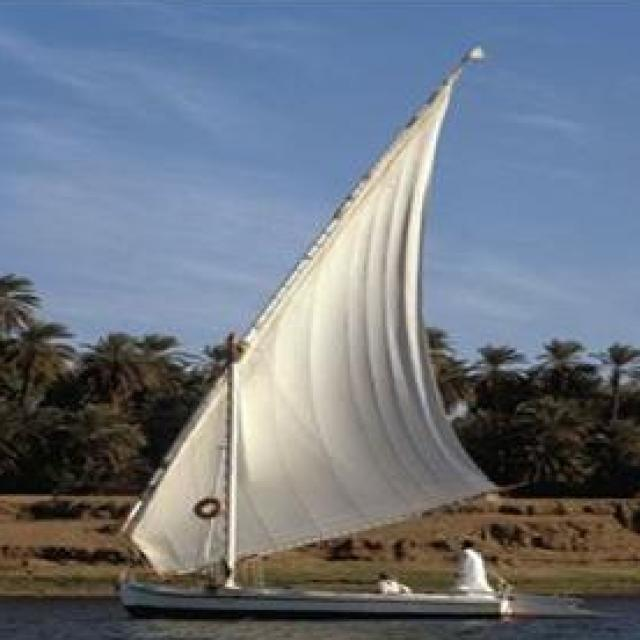sailboat: (116, 32, 551, 620)
